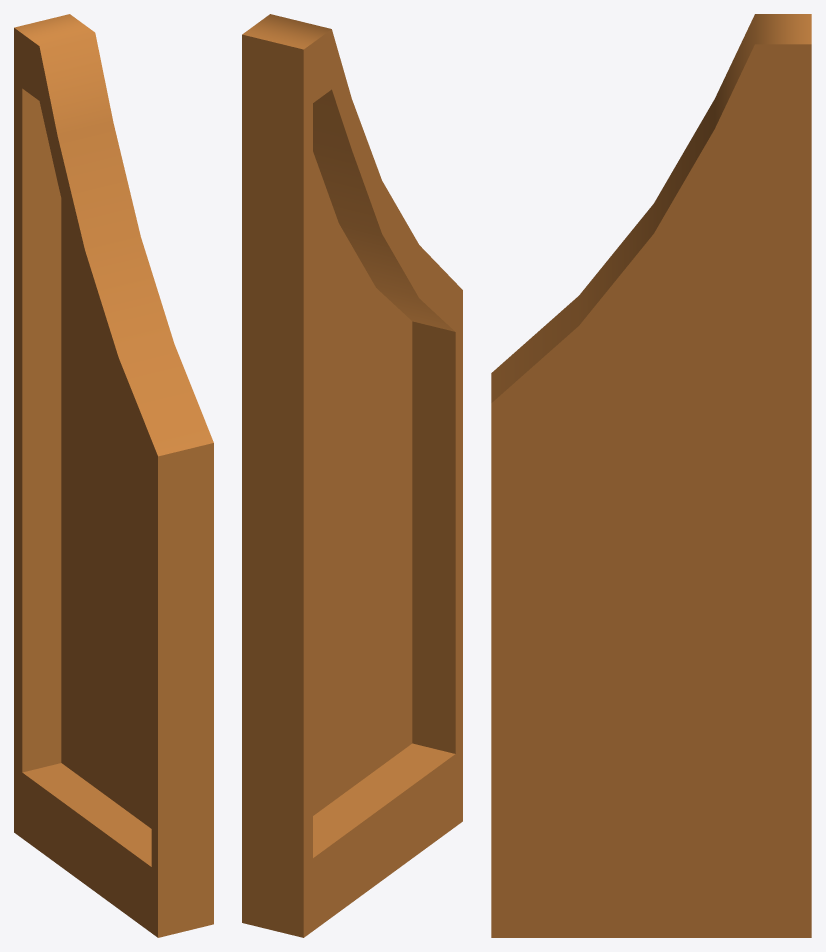
File: Left wing big.fbx
The picture shows the model from 3 angles, left to right: view 1: azimuth 30°, elevation 25°; view 2: azimuth 150°, elevation 25°; view 3: azimuth 270°, elevation 25°; orthographic projection. The views are drawn at different scales.
Parts seen in each view (by area): view 1: polySurface108; view 2: polySurface108; view 3: polySurface108.
Part boxes in pixels (<box>): polySurface108: <box>14,14,213,937</box>; polySurface108: <box>242,14,462,937</box>; polySurface108: <box>491,14,811,937</box>.
Size of the model in its own units: 0.675 by 9.3 by 3.02.
1 material, 1 textured.
